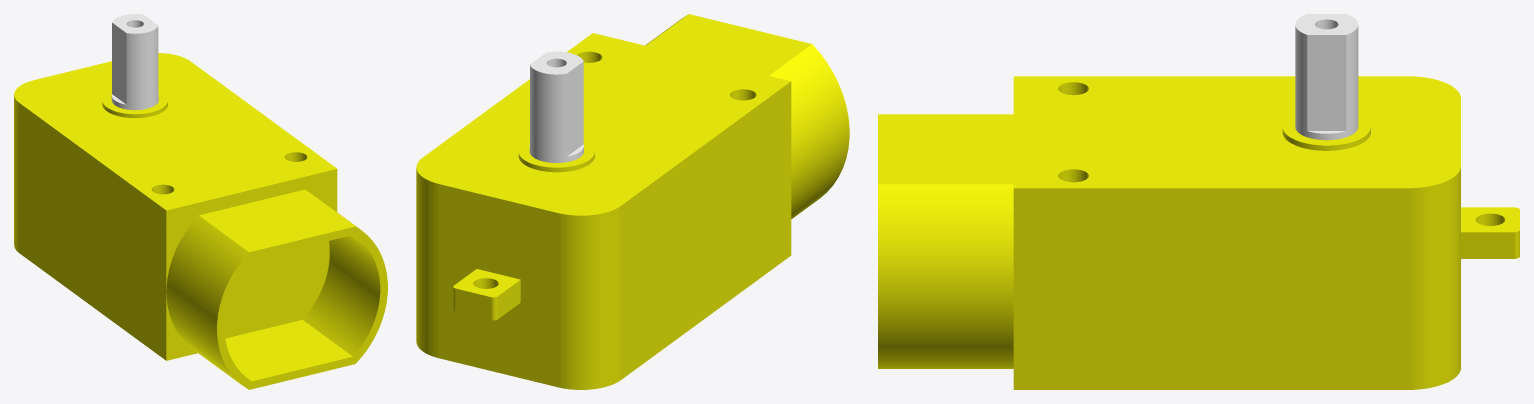
File: Gear_Motor__1__Cut_Extrude8_1_.obj
3 views of the same model, side by side, from view 1: azimuth 30°, elevation 25°; view 2: azimuth 150°, elevation 25°; view 3: azimuth 270°, elevation 25° (orthographic). The views are drawn at different scales.
Visible parts, largest first — view 1: mesh7516, mesh7522, mesh7528, mesh7534, mesh7535, mesh7529, mesh7533, mesh7530, mesh7526, mesh7513, mesh7509, mesh7518 (+3 smaller); view 2: mesh7516, mesh7522, mesh7536, mesh7518, mesh7528, mesh7529, mesh7517, mesh7513, mesh7509, mesh7542, mesh7539, mesh7508 (+3 smaller); view 3: mesh7521, mesh7516, mesh7527, mesh7517, mesh7529, mesh7511, mesh7513, mesh7537, mesh7542, mesh7508, mesh7514.
Part boxes in pixels (x1,y1,x2,y2): mesh7516: (14, 53, 336, 210); mesh7522: (19, 103, 166, 360); mesh7528: (166, 215, 248, 384); mesh7534: (224, 241, 329, 338); mesh7535: (302, 235, 380, 356); mesh7529: (199, 189, 355, 252); mesh7533: (225, 320, 352, 381); mesh7530: (217, 226, 387, 389); mesh7526: (166, 169, 337, 290); mesh7513: (111, 26, 158, 110); mesh7509: (112, 23, 126, 104); mesh7518: (14, 95, 19, 252); mesh7516: (416, 33, 790, 215); mesh7522: (620, 81, 791, 379); mesh7536: (439, 184, 558, 387); mesh7518: (558, 206, 620, 389); mesh7528: (769, 44, 849, 218); mesh7529: (646, 14, 811, 75); mesh7517: (416, 168, 439, 357); mesh7513: (529, 65, 583, 162); mesh7509: (567, 61, 583, 156); mesh7542: (453, 269, 520, 297); mesh7539: (455, 288, 490, 319); mesh7508: (530, 51, 583, 74); mesh7521: (1013, 188, 1407, 389); mesh7516: (1013, 76, 1460, 188); mesh7527: (878, 184, 1013, 368); mesh7517: (1408, 168, 1460, 389); mesh7529: (878, 114, 1013, 184); mesh7511: (1307, 35, 1346, 130); mesh7513: (1295, 25, 1358, 140); mesh7537: (1461, 232, 1513, 258); mesh7542: (1461, 207, 1519, 232); mesh7508: (1295, 14, 1358, 34); mesh7514: (1282, 114, 1370, 145).
Size of the model in its own units: 0.0225 by 0.029 by 0.0545.
